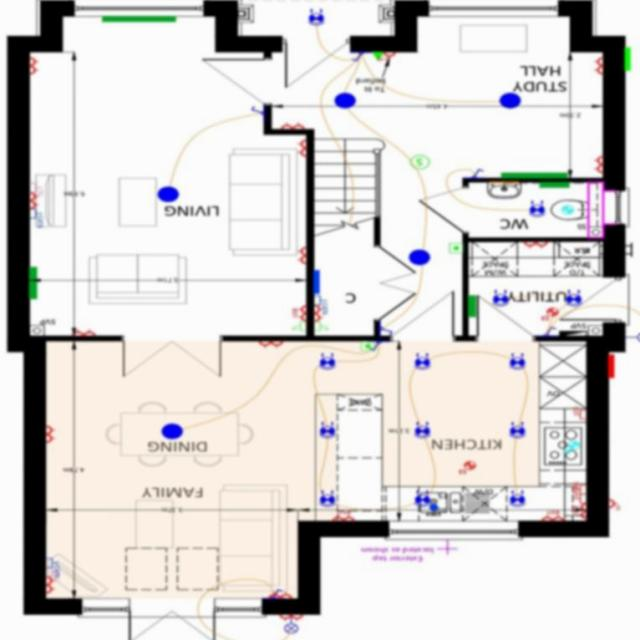BT Entry Point: (375, 53, 384, 61)
Cat 6 Data Socket: (31, 210, 45, 230), (316, 296, 329, 316), (47, 559, 61, 577)
Ceiling Mounted Continuous Extract FanWith Boost Mode Activated By Light Switch: (563, 207, 574, 216)
Ceiling Mounted Continuous Extract FanWith Local Boost Switch: (542, 308, 560, 322), (460, 462, 476, 475)
Co-Ax TV Socket: (31, 184, 45, 198), (47, 569, 60, 584)
Consumer Unit: (560, 331, 587, 337)
Double Socket: (46, 426, 58, 444), (524, 242, 549, 250), (298, 140, 308, 159), (594, 157, 604, 175), (281, 123, 306, 130), (31, 57, 40, 76), (298, 248, 308, 265), (47, 578, 57, 595), (595, 58, 604, 76), (73, 330, 96, 337), (270, 592, 292, 599), (260, 343, 284, 349), (31, 193, 39, 210), (281, 616, 303, 622), (315, 306, 323, 322)
Electric Meter Box: (609, 355, 615, 379)
External Wall Light: (285, 615, 299, 635), (627, 333, 640, 345)
Fused spur: (379, 52, 396, 62)
Gas Meter Box: (625, 48, 632, 72)
Grid Switch: (574, 490, 588, 504)
Hob Switch: (573, 483, 587, 495)
Light Switch: (545, 328, 557, 338), (471, 170, 485, 178), (382, 326, 393, 336), (370, 342, 382, 351), (353, 54, 365, 62), (272, 590, 284, 598)
Low Energy Downlighter: (320, 421, 337, 440), (415, 353, 432, 371), (511, 490, 527, 509), (320, 491, 337, 508), (415, 490, 431, 508), (510, 353, 526, 371), (309, 9, 325, 27), (530, 201, 546, 218), (415, 423, 431, 439), (566, 291, 582, 307), (320, 354, 336, 370), (511, 422, 526, 439), (494, 291, 509, 307)
Low Energy Pendant Light: (162, 424, 184, 440), (158, 187, 180, 203), (335, 94, 357, 110), (410, 250, 431, 266), (501, 94, 522, 110)
Mains Wired Smoke Detector: (411, 156, 430, 172)
Outside Socket: (610, 501, 621, 512)
Outside Tap: (438, 540, 459, 556)
Oven Switch: (574, 408, 587, 420)
Programmable Room Thermostat: (450, 244, 464, 255), (362, 342, 376, 352)
Radiator: (103, 16, 177, 22), (503, 173, 568, 179), (30, 268, 38, 300), (469, 296, 478, 318), (540, 183, 570, 188)
Recirculating Extractor Fan: (564, 442, 580, 455)
Single Socket: (252, 105, 264, 117)
Telephone Socket: (315, 322, 329, 332), (294, 322, 307, 332)
USB Double Socket: (292, 306, 308, 322), (332, 512, 356, 522), (542, 512, 565, 522), (574, 504, 588, 520)
Underfloor Heating Manifold: (315, 271, 320, 294)
Water Entry Position: (430, 506, 440, 512)
